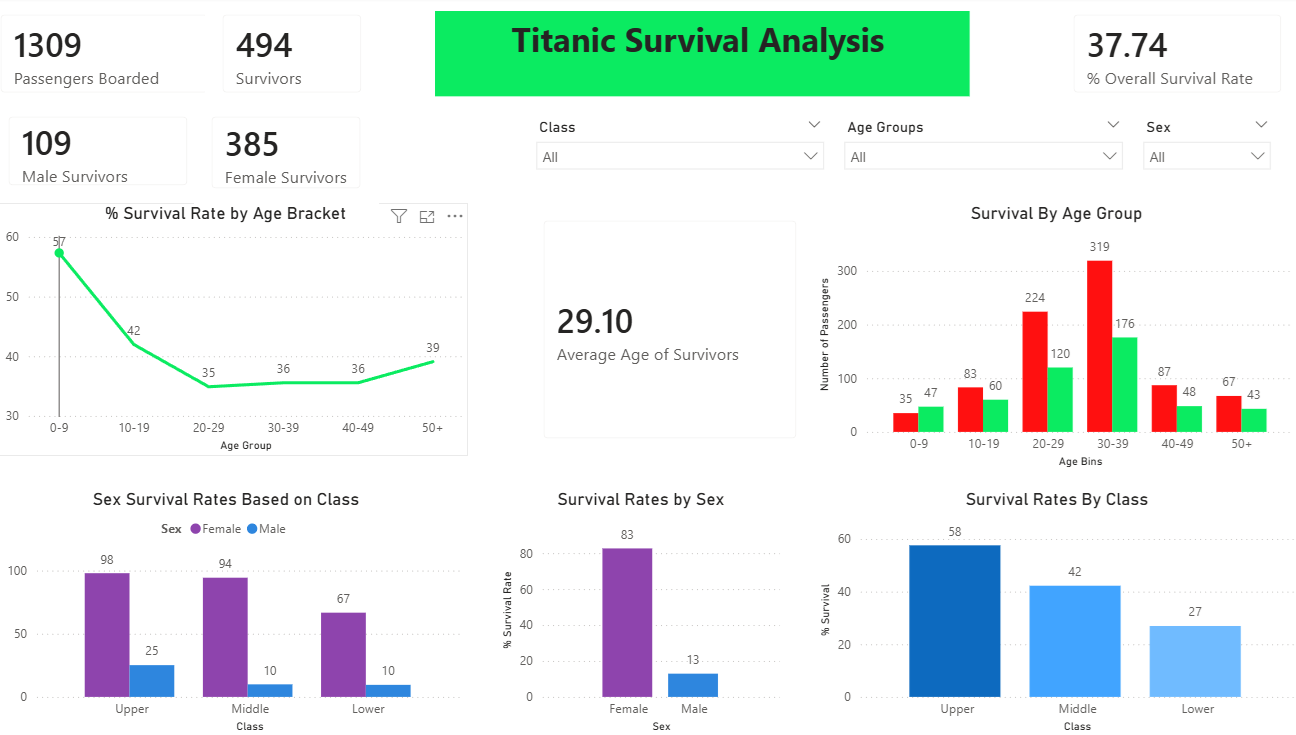

The page's visual inventory and layout, read from the dashboard file:
{"tool":"powerbi","page":{"name":"Titanic Dashboard","canvas":[1280,720],"ordinal":0},"visuals":[{"type":"textbox","box":[439.6,13.6,520.4,82.7],"z":0},{"type":"cardVisual","fields":{"Data":["CountNonNull(gold fact_table.PassengerID)"]},"box":[0,0,236.4,110.9],"z":1000},{"type":"cardVisual","fields":{"Data":["gold fact_table.Total Survivors"]},"box":[215.9,0,169.2,110.9],"z":2000},{"type":"slicer","fields":{"Values":["gold fact_table.Age Bins"]},"box":[827.7,112.8,290.8,58.4],"z":3000},{"type":"slicer","fields":{"Values":["gold fact_table.Sex"]},"box":[1118.5,112.8,144,65.2],"z":4000},{"type":"slicer","fields":{"Values":["gold fact_table.Class"]},"box":[528.1,112.8,299.6,67.1],"z":5000},{"type":"columnChart","title":"Survival Rates by Sex","fields":{"Category":["gold fact_table.Sex"],"Y":["gold fact_table.Survival Rate"]},"box":[499.9,478.5,280.1,241.2],"z":6000},{"type":"lineChart","title":"% Survival Rate by Age Bracket ","fields":{"Category":["gold fact_table.Age Bins"],"Y":["gold fact_table.Survival Rate"]},"box":[0,200.4,471.7,246.1],"z":7000},{"type":"clusteredColumnChart","title":"Sex Survival Rates Based on Class","fields":{"Y":["gold fact_table.Survival Rate"],"Category":["gold fact_table.Class"],"Series":["gold fact_table.Sex"]},"box":[1,478.5,470.8,241.2],"z":8000},{"type":"clusteredColumnChart","title":"Survival By Age Group","fields":{"Y":["CountNonNull(gold fact_table.PassengerID)"],"Category":["gold fact_table.Age Bins"],"Series":["gold fact_table.Status"]},"box":[808.3,200.4,471.7,261.6],"z":9000},{"type":"clusteredColumnChart","title":"Survival Rates By Class","fields":{"Y":["gold fact_table.Survival Rate"],"Category":["gold fact_table.Class"]},"box":[809.2,478.5,470.8,241.2],"z":10000},{"type":"cardVisual","fields":{"Data":["gold fact_table.Survival Rate"]},"box":[1043.6,0,236.4,110.9],"z":11000},{"type":"cardVisual","fields":{"Data":["gold fact_table.Male Survivors"]},"box":[7.8,99.2,208.1,101.2],"z":12000},{"type":"cardVisual","fields":{"Data":["gold fact_table.Female Survivors"]},"box":[205.2,99.2,179.9,104.1],"z":13000},{"type":"cardVisual","fields":{"Data":["gold dim_pass.Average Age of Survivors"]},"box":[528,200,280,246],"z":14000}]}

Visuals, with their boxes in screenshot pixels (x1, y1, x2, y2), scaled from the page's 1280x720 canvas onto the 1296x735 screenshot:
textbox: 445/14/972/98
cardVisual - CountNonNull(gold fact_table.PassengerID): 0/0/239/113
cardVisual - gold fact_table.Total Survivors: 219/0/390/113
slicer - gold fact_table.Age Bins: 838/115/1132/175
slicer - gold fact_table.Sex: 1132/115/1278/182
slicer - gold fact_table.Class: 535/115/838/184
"Survival Rates by Sex" columnChart: 506/488/790/734
"% Survival Rate by Age Bracket " lineChart: 0/205/478/456
"Sex Survival Rates Based on Class" clusteredColumnChart: 1/488/478/734
"Survival By Age Group" clusteredColumnChart: 818/205/1295/472
"Survival Rates By Class" clusteredColumnChart: 819/488/1295/734
cardVisual - gold fact_table.Survival Rate: 1057/0/1295/113
cardVisual - gold fact_table.Male Survivors: 8/101/219/205
cardVisual - gold fact_table.Female Survivors: 208/101/390/208
cardVisual - gold dim_pass.Average Age of Survivors: 535/204/818/455
